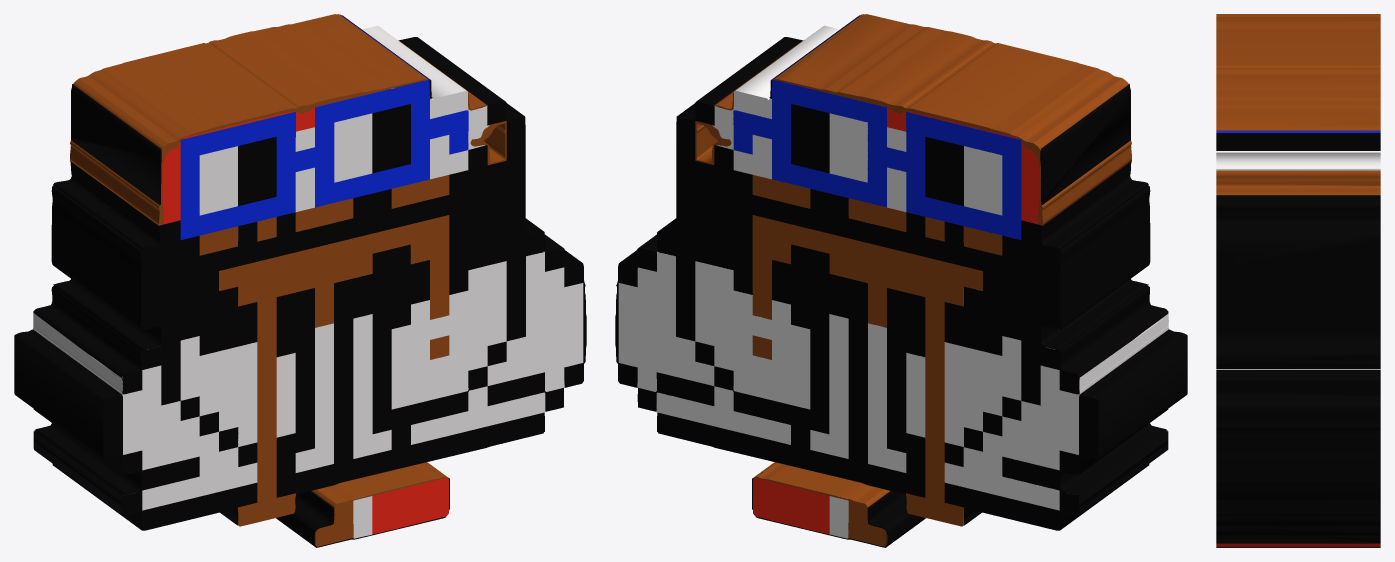
The model's file is Toadz_3417.glb.
3 views of the same model, side by side, from view 1: azimuth 30°, elevation 25°; view 2: azimuth 150°, elevation 25°; view 3: azimuth 270°, elevation 25° (orthographic). The views are drawn at different scales.
Visible parts, largest first — view 1: Curve; view 2: Curve; view 3: Curve.
Boxes of the visible parts, x1,y1,x2,y2 form: Curve: [14, 14, 586, 547]; Curve: [615, 14, 1187, 547]; Curve: [1216, 14, 1380, 547].
Bounding box in the file's own units: 3.14 × 2.77 × 1.
